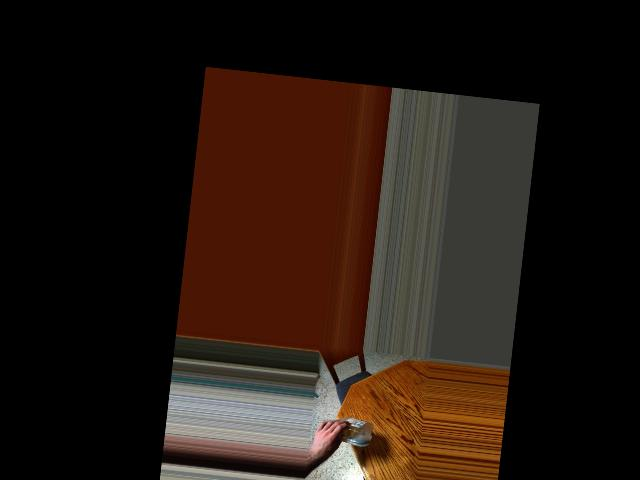cheese: (323, 412, 368, 450)
